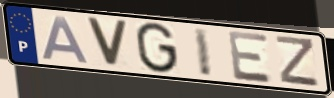A: (40, 14, 92, 66)
E: (226, 29, 275, 85)
G: (135, 21, 180, 76)
I: (192, 26, 215, 79)
V: (84, 16, 131, 70)
Z: (274, 34, 321, 90)
